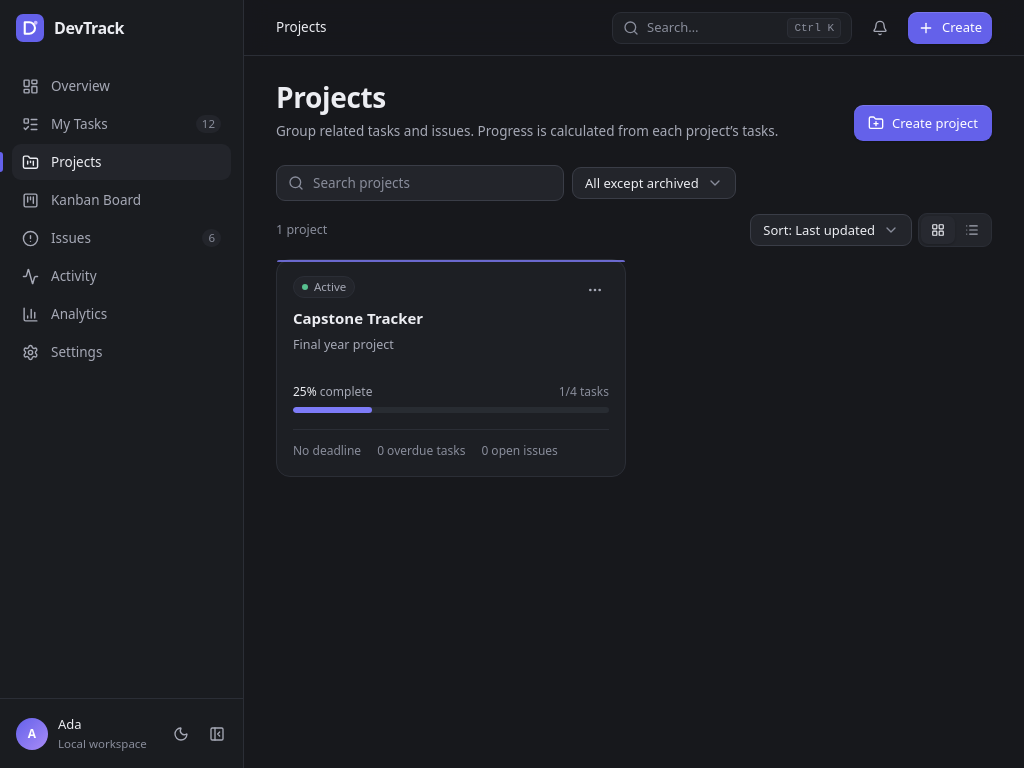
Test: Project forms › edits an existing project with its values pre-filled
Click the button named "Actions for Capstone Tracker" at (595, 290), box [581,276,609,304]
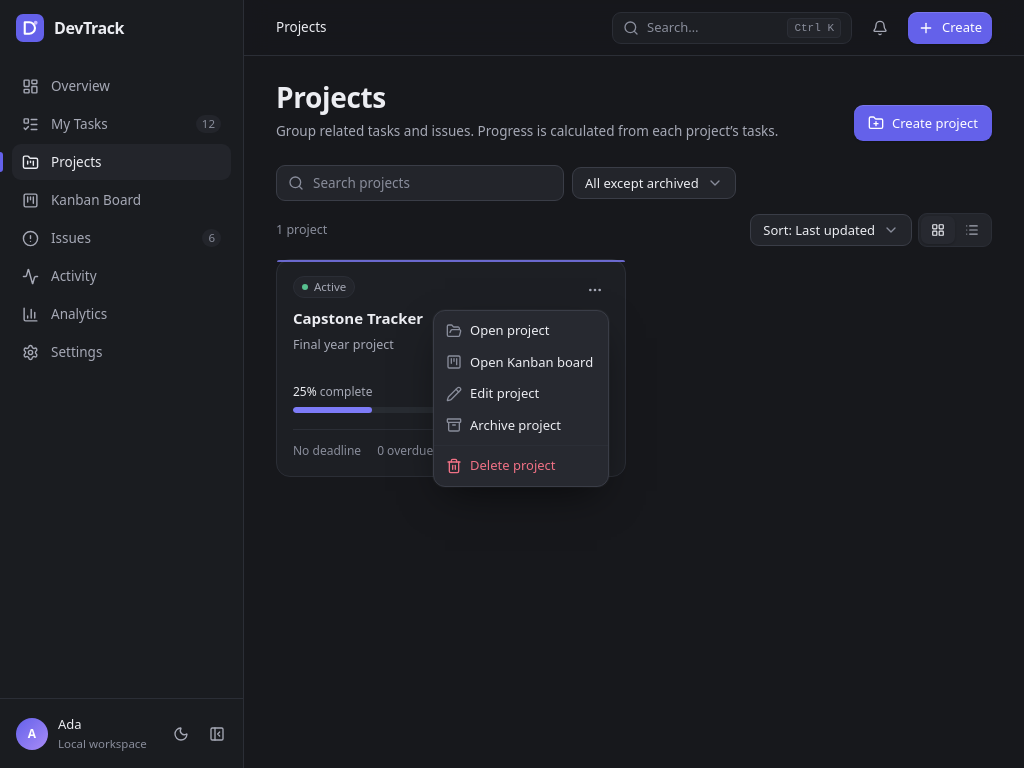
Click the menu item "Edit project" at (493, 393), box [446,384,539,402]
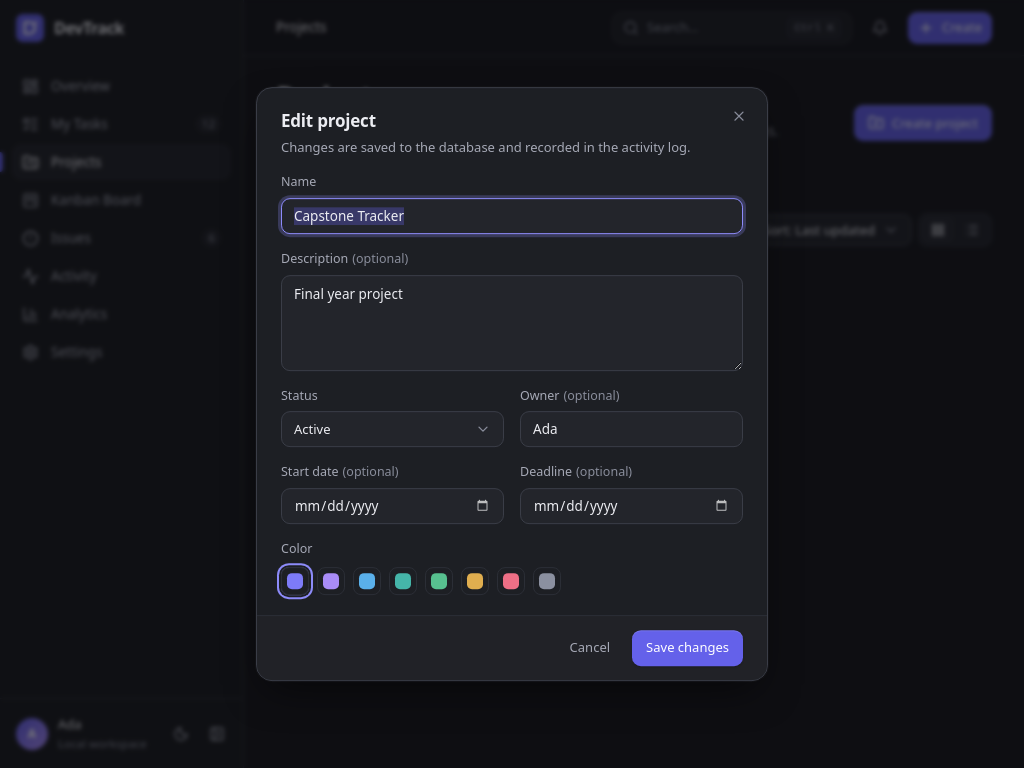
Check: the field labelled "Name" holds "Capstone Tracker"
Replace the text in the field labelled "Name" with "Capstone Tracker v2" at (512, 216), box [281,198,743,234]
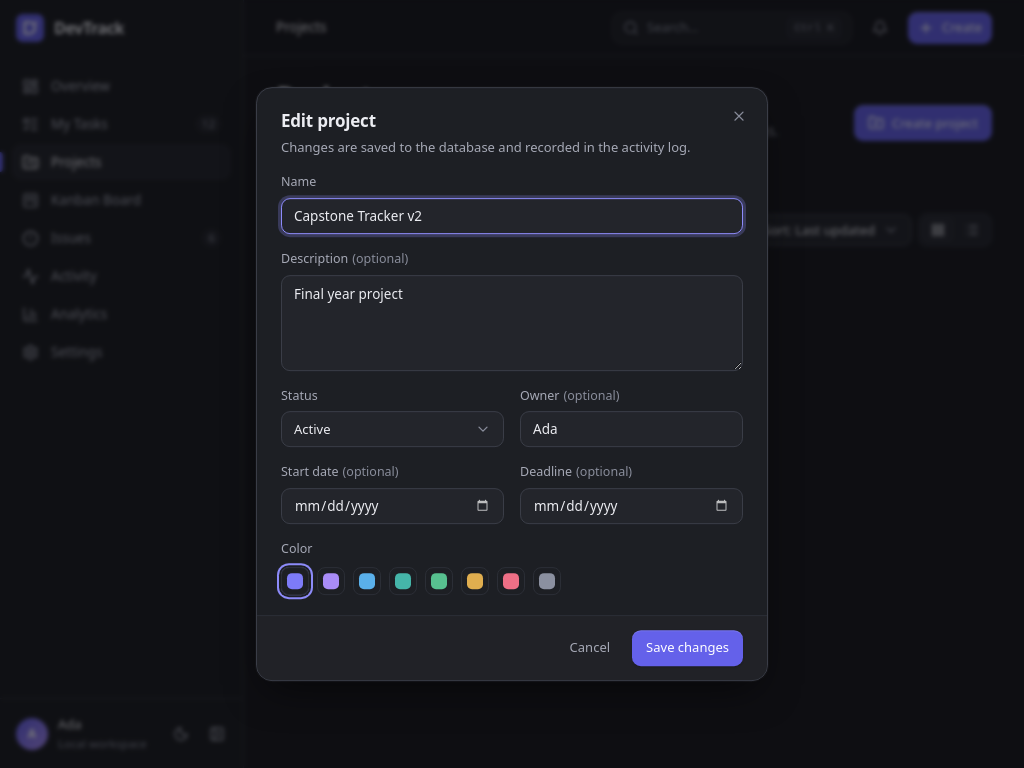
Click the button "Save changes" at (688, 648), box [632,630,743,666]
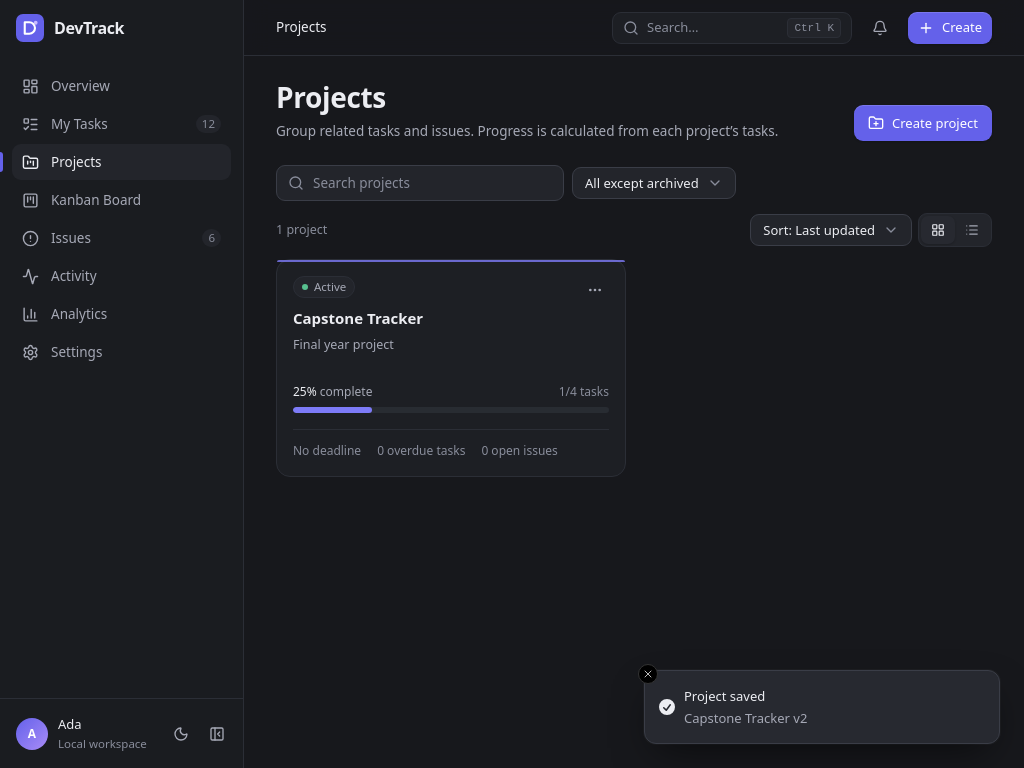
Check: the text "Project saved" is shown, box [684,687,765,705]
